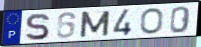0: (169, 5, 192, 35)
4: (111, 7, 133, 37)
6: (55, 11, 77, 39)
M: (79, 10, 112, 39)
O: (139, 7, 164, 35)
S: (24, 13, 51, 42)
